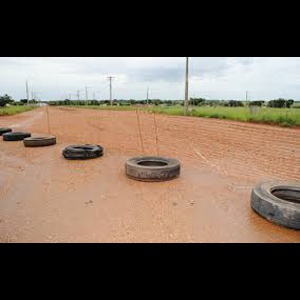tire: (251, 180, 300, 230), (124, 155, 180, 184), (60, 143, 103, 161), (23, 136, 56, 147), (2, 132, 31, 140)
